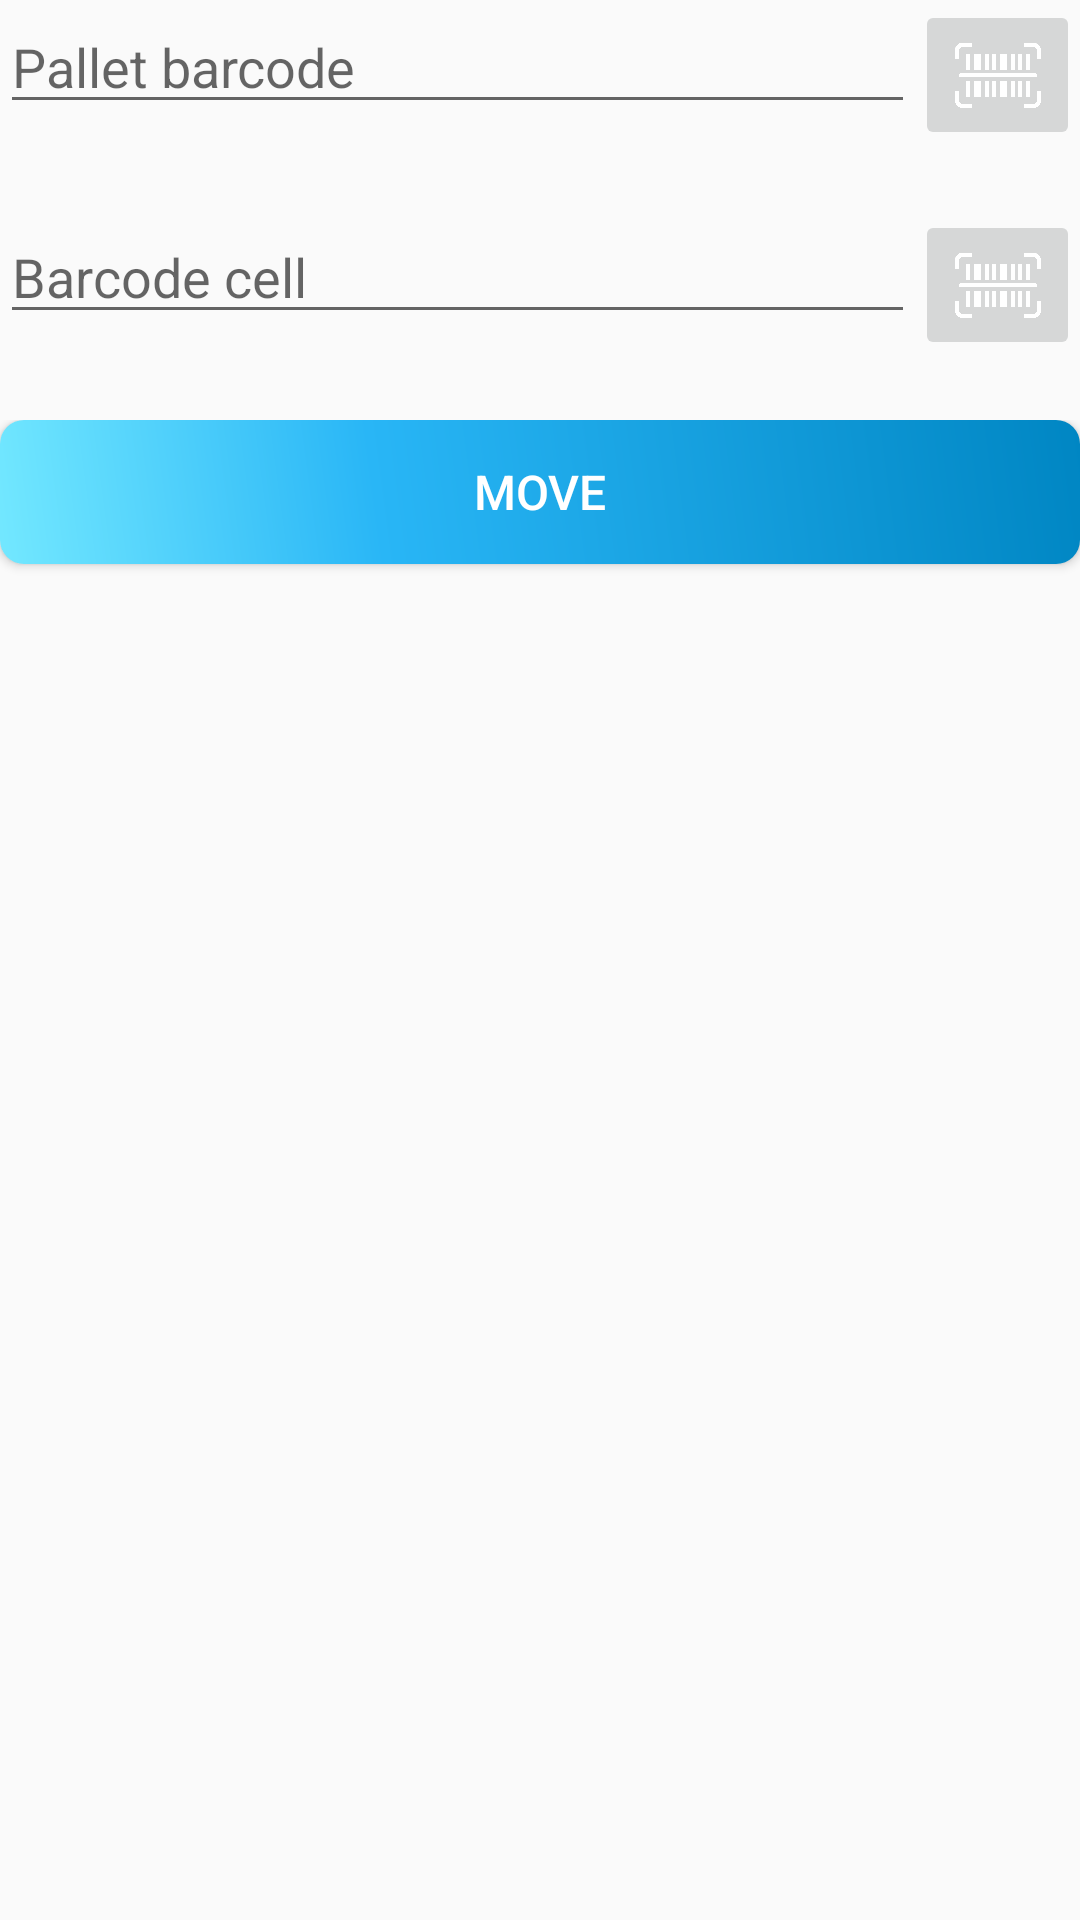

Named icons in this screenshot (1080*1920) and their centers, (x,y):
scan barcode: (997,75), (997,285)
